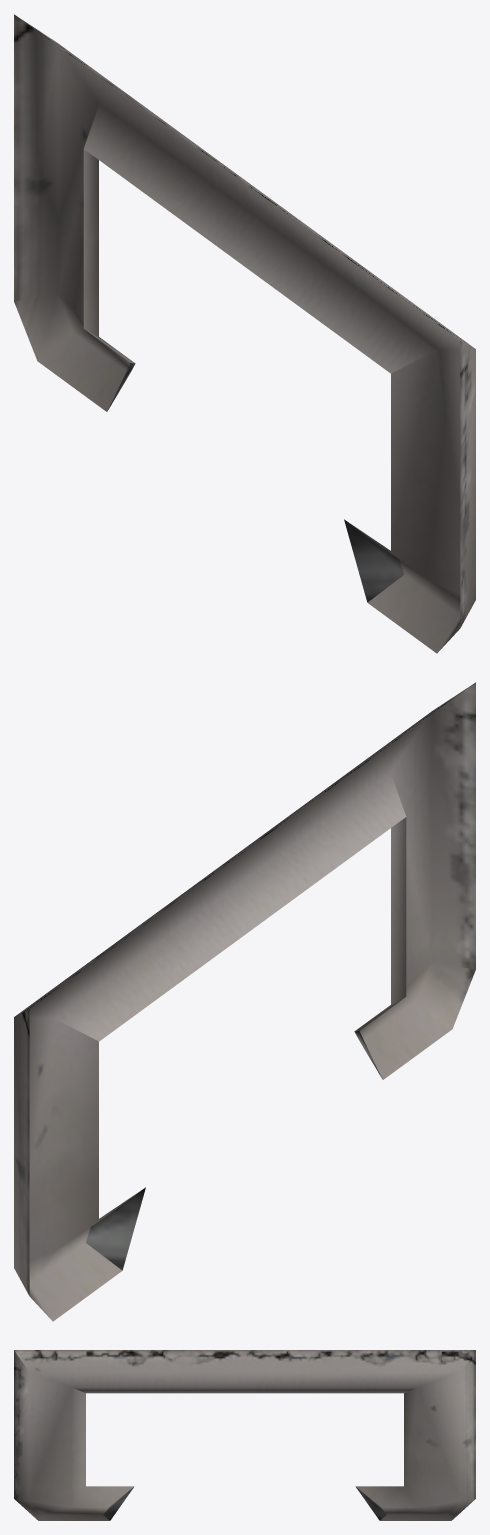
Rendered from 02_05_server_ceiling_grid_small_ends.dae.
3 renders of one model, top to bottom at view 1: azimuth 30°, elevation 25°; view 2: azimuth 150°, elevation 25°; view 3: azimuth 270°, elevation 25°, orthographic. The views are drawn at different scales.
Visible parts, largest first — view 1: UV_temp_polySurface1; view 2: UV_temp_polySurface1; view 3: UV_temp_polySurface1.
Boxes of the visible parts, left/top/right/bottom form: UV_temp_polySurface1: left=14, top=14, right=475, bottom=653; UV_temp_polySurface1: left=14, top=682, right=475, bottom=1321; UV_temp_polySurface1: left=14, top=1350, right=475, bottom=1520.
Bounding box in the file's own units: 0.022 × 0.2327 × 0.5709.
